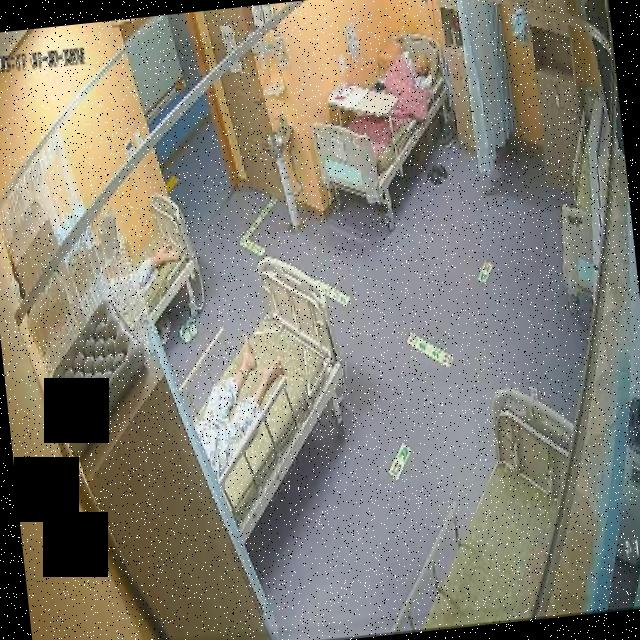bed: (366, 383, 594, 634), (175, 252, 360, 542), (302, 28, 464, 210), (124, 188, 200, 326)
lie: (184, 325, 293, 477)
patient: (183, 324, 292, 474), (396, 46, 434, 91)
